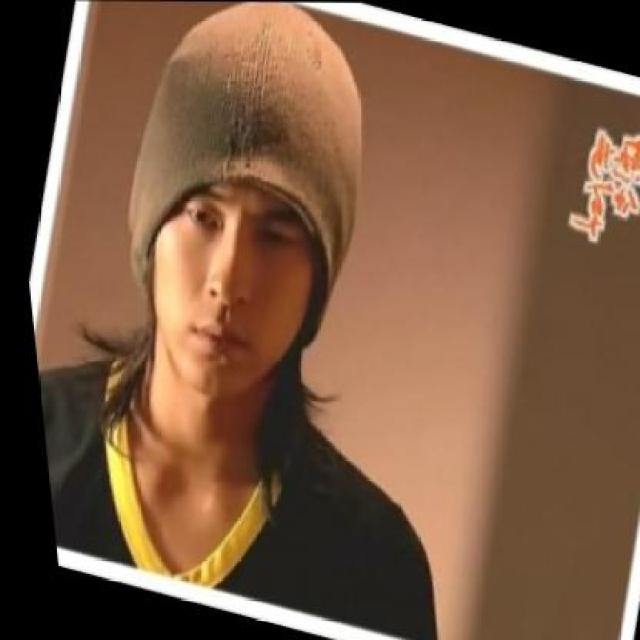hat: (118, 1, 357, 347)
